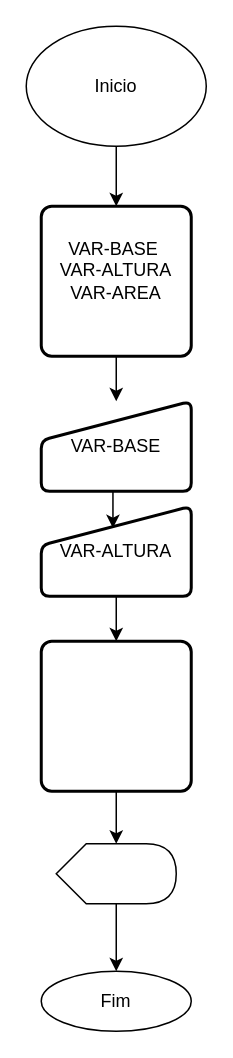
The diagram is 233 pixels wide and 1058 high, and some of its shapes have lost their labels. The shapes that lost their labels are listed below. From the top down, each one's centre as x and y in pixels, then its label:
pixel 115 715: VAR-AREA = VAR-BASE * VAR-ALTURA
pixel 115 873: VAR-AREA
